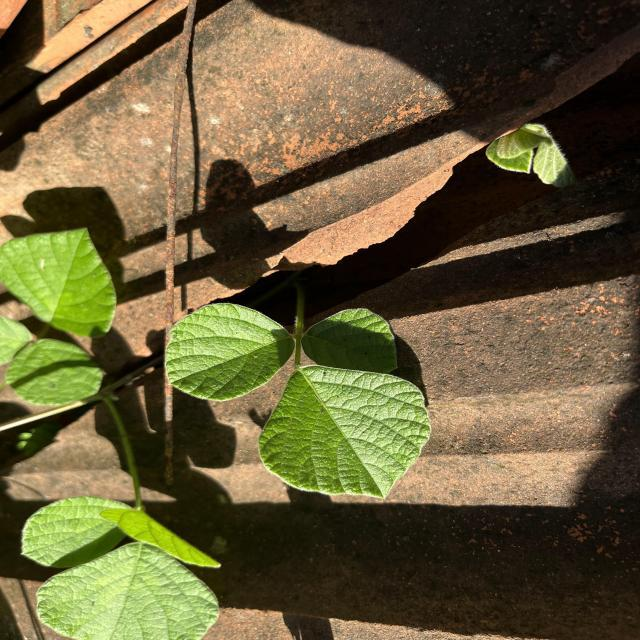Pseudarthria viscida: (160, 302, 437, 503)
